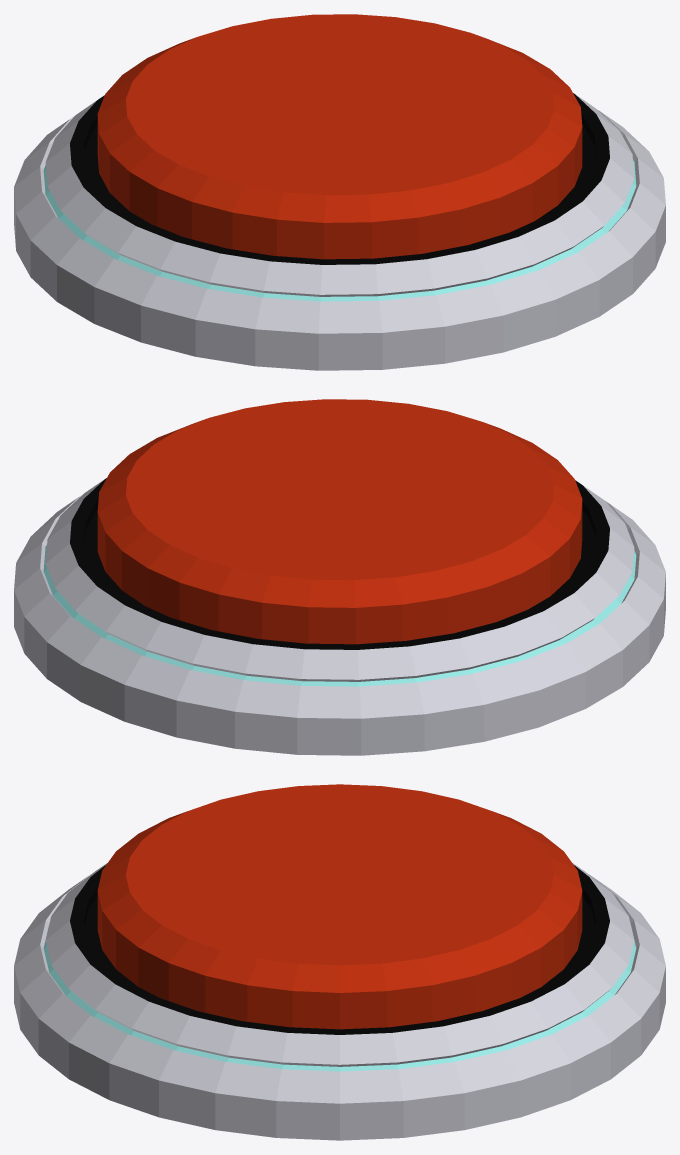
File: floor-button-mesh.glb
3 views of the same model, one above another, from view 1: azimuth 30°, elevation 25°; view 2: azimuth 150°, elevation 25°; view 3: azimuth 270°, elevation 25° (orthographic).
Visible parts, largest first — view 1: Cylinder.001, Cylinder; view 2: Cylinder.001, Cylinder; view 3: Cylinder.001, Cylinder.
Part boxes in pixels (x1,y1,x2,y2): Cylinder.001: (97, 14, 582, 259); Cylinder: (14, 93, 665, 370); Cylinder.001: (97, 399, 582, 644); Cylinder: (14, 478, 665, 755); Cylinder.001: (97, 784, 582, 1029); Cylinder: (14, 863, 665, 1140).
Size of the model in its own units: 4 by 0.8665 by 4.
